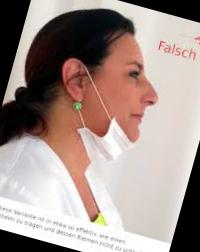mask_weared_incorrect: (86, 48, 172, 178)
